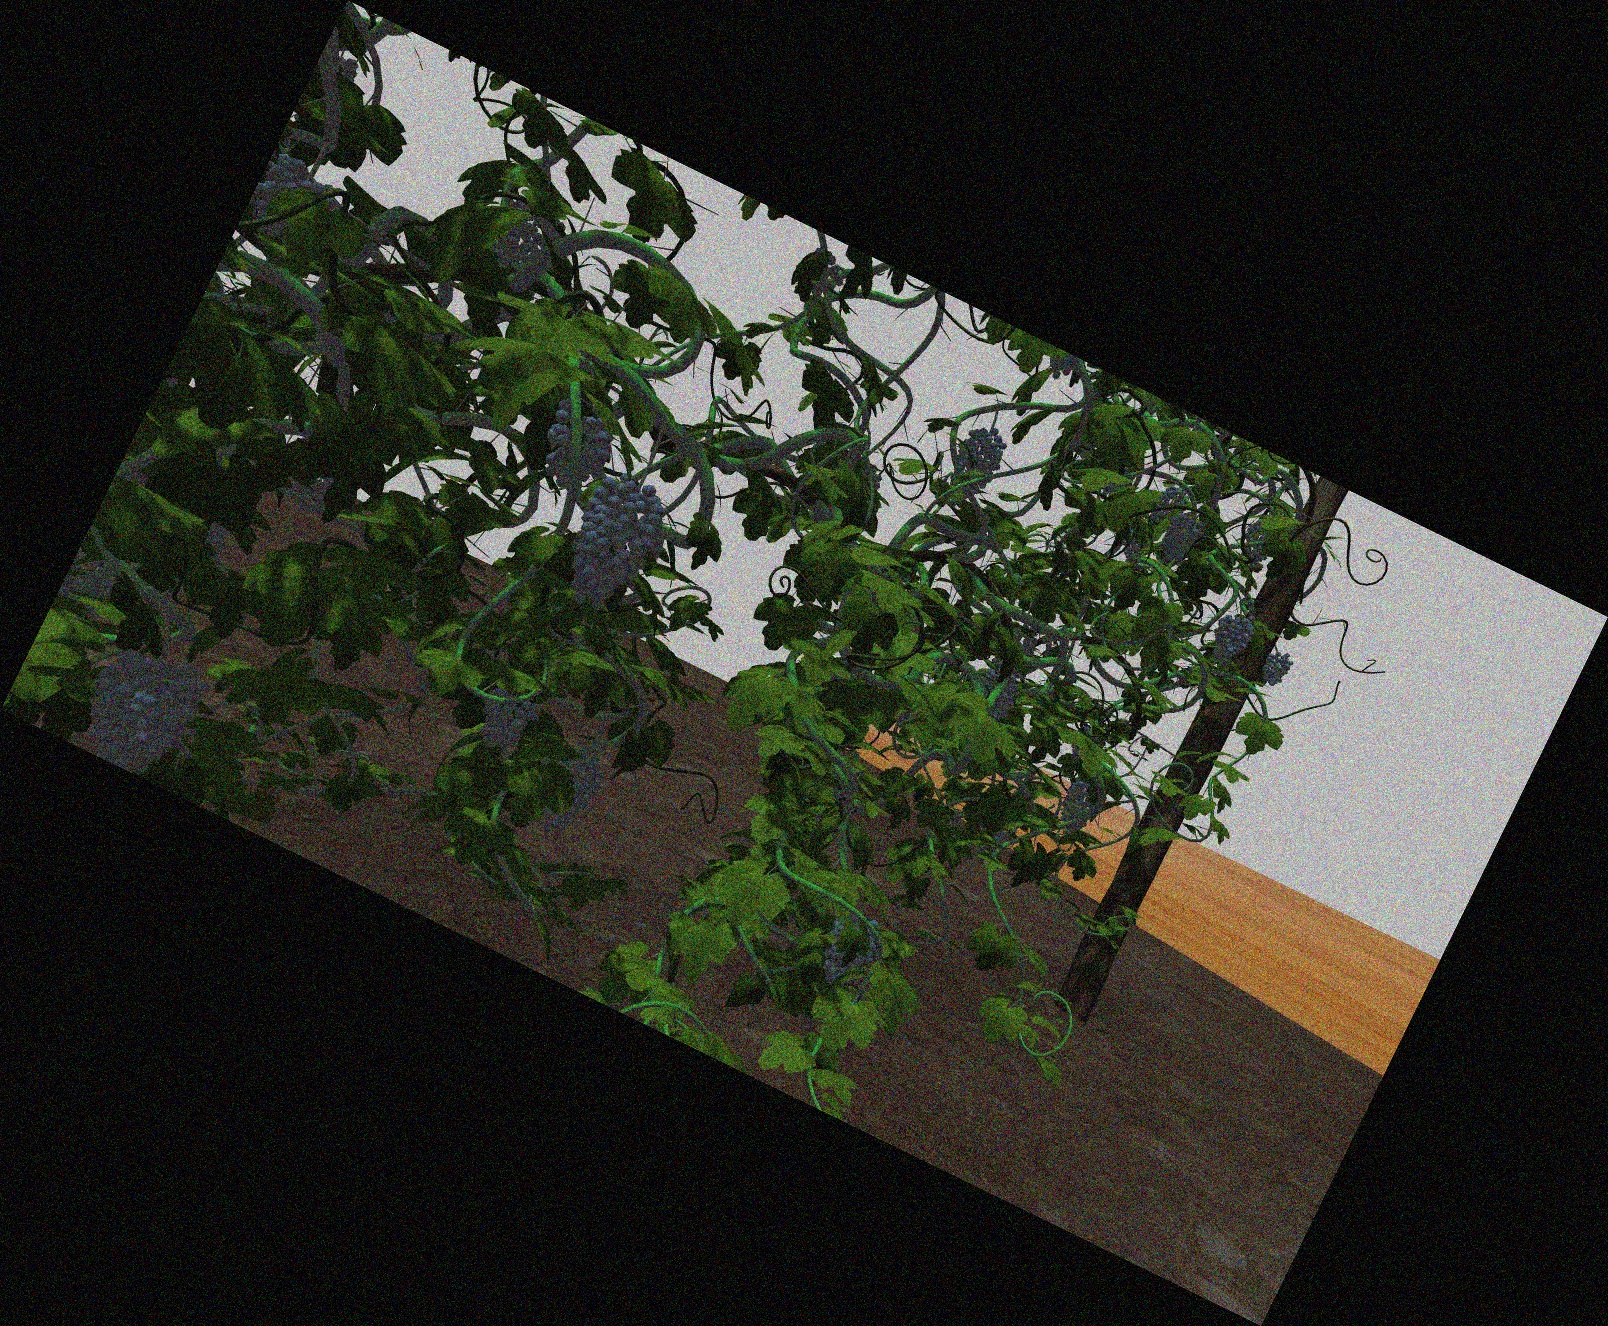grape: (93, 656, 194, 758), (578, 482, 648, 602), (544, 410, 608, 485), (544, 750, 592, 840), (479, 689, 532, 753), (955, 426, 1002, 491), (1209, 614, 1250, 664), (1163, 515, 1201, 565), (1062, 785, 1095, 835), (1261, 652, 1291, 694)
